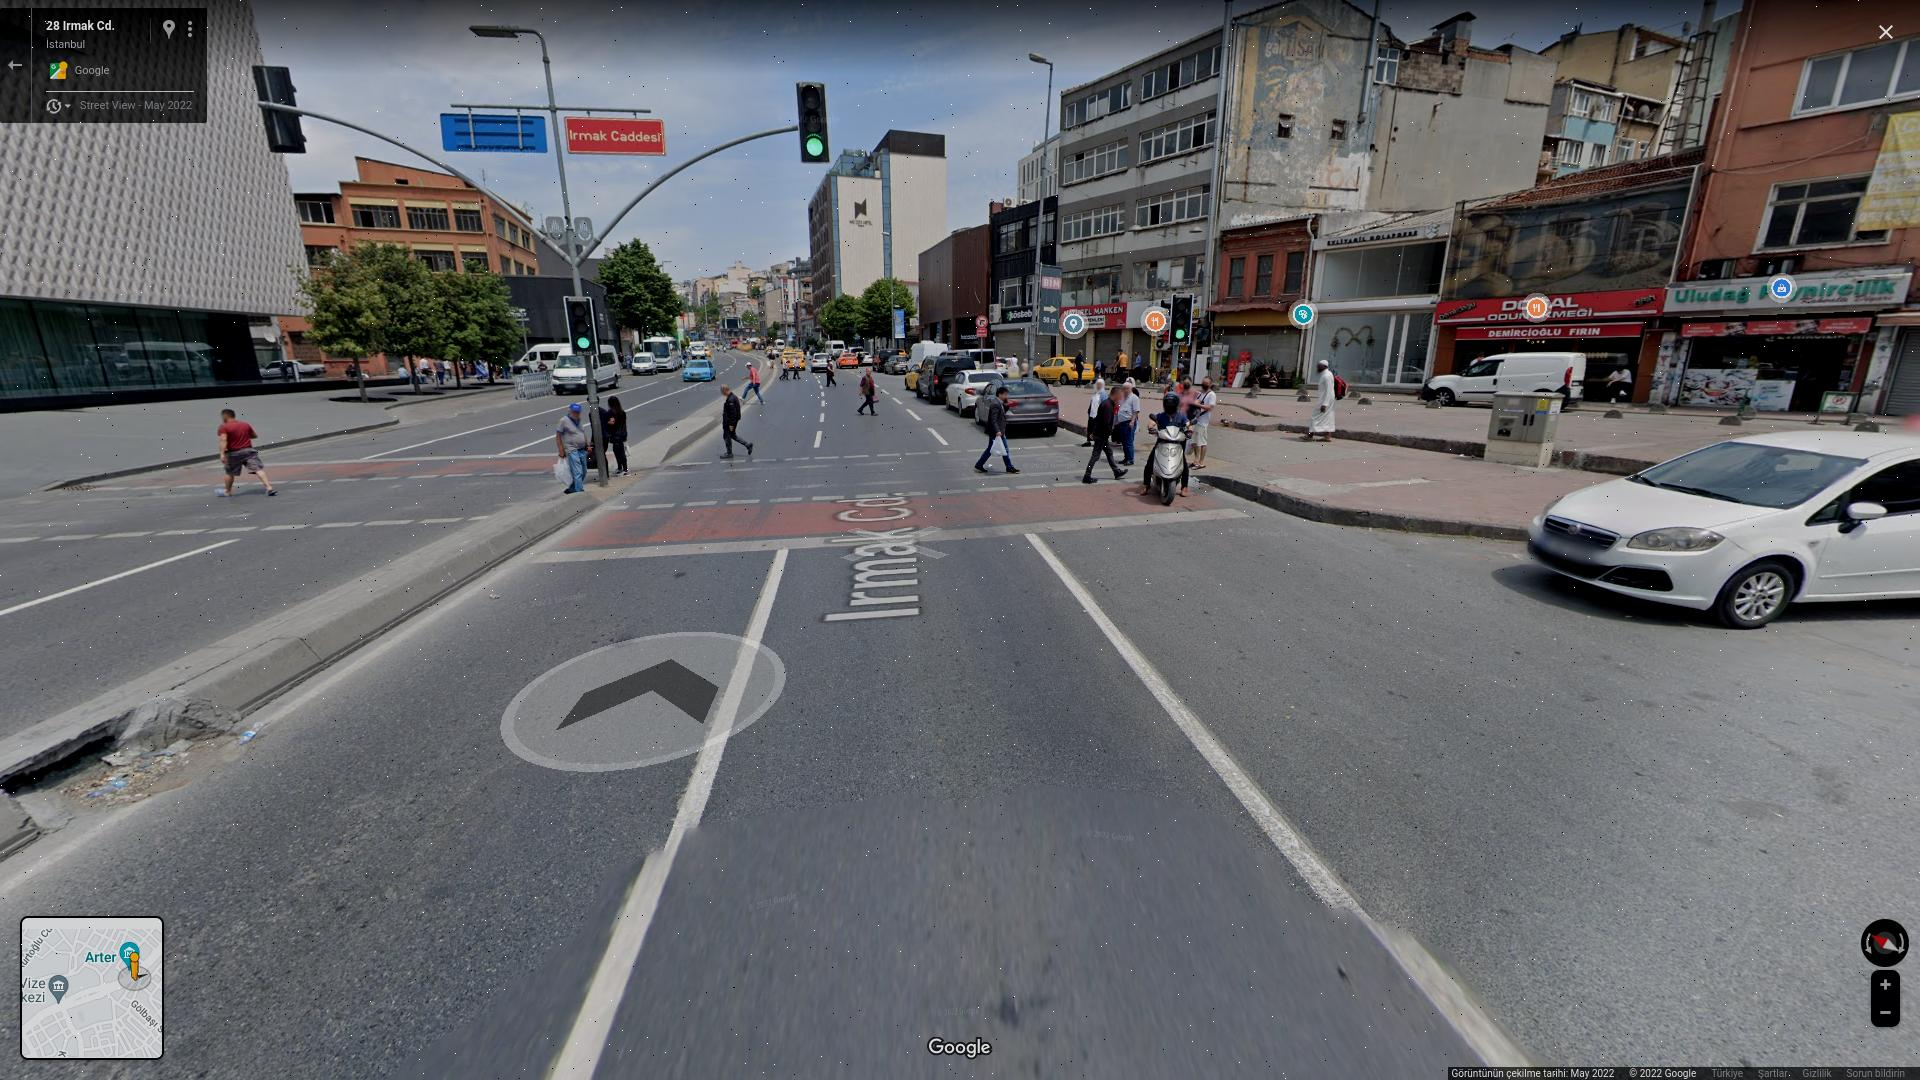greenlight: (796, 79, 829, 164), (571, 298, 592, 355), (1172, 294, 1191, 347)
rightturnsareforbidden: (976, 315, 988, 328)
